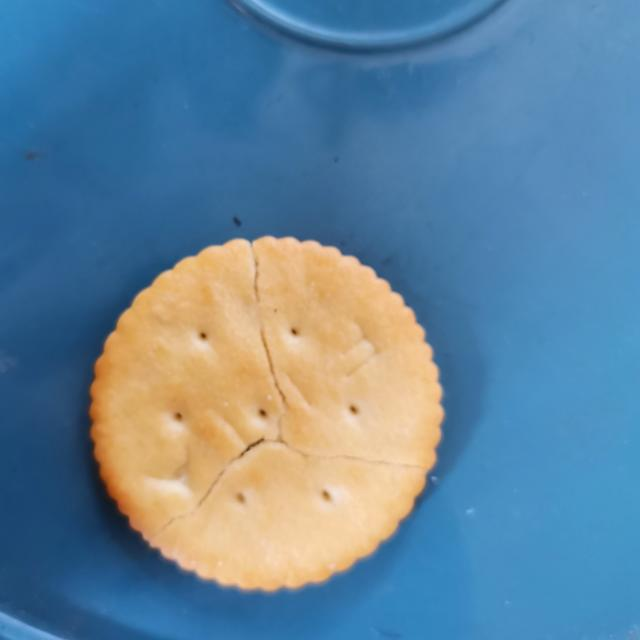Fracture: (138, 242, 440, 555)
